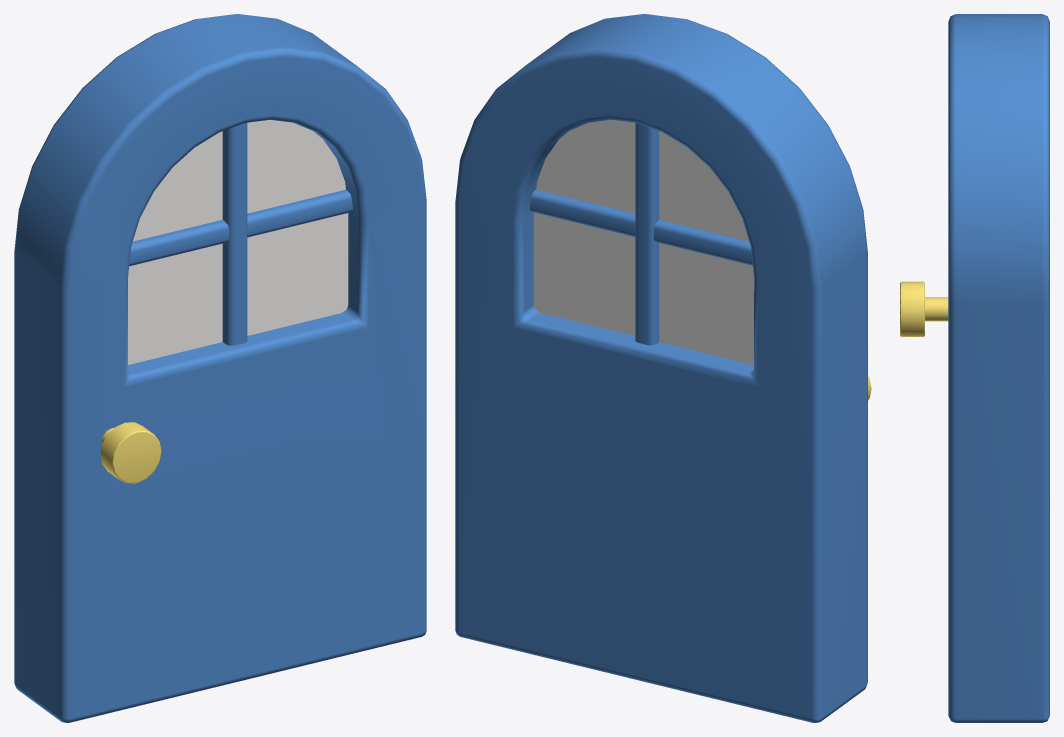
The model's file is Door_2.glb.
3 views of the same model, side by side, from view 1: azimuth 30°, elevation 25°; view 2: azimuth 150°, elevation 25°; view 3: azimuth 270°, elevation 25° (orthographic). The views are drawn at different scales.
Parts seen in each view (by area): view 1: Door_2; view 2: Door_2; view 3: Door_2.
Part boxes in pixels (x1,y1,x2,y2): Door_2: (14,14,426,722); Door_2: (455,14,871,722); Door_2: (900,14,1049,722).
Size of the model in its own units: 1.37 by 2.24 by 0.5021.
2 materials, 2 textured.
